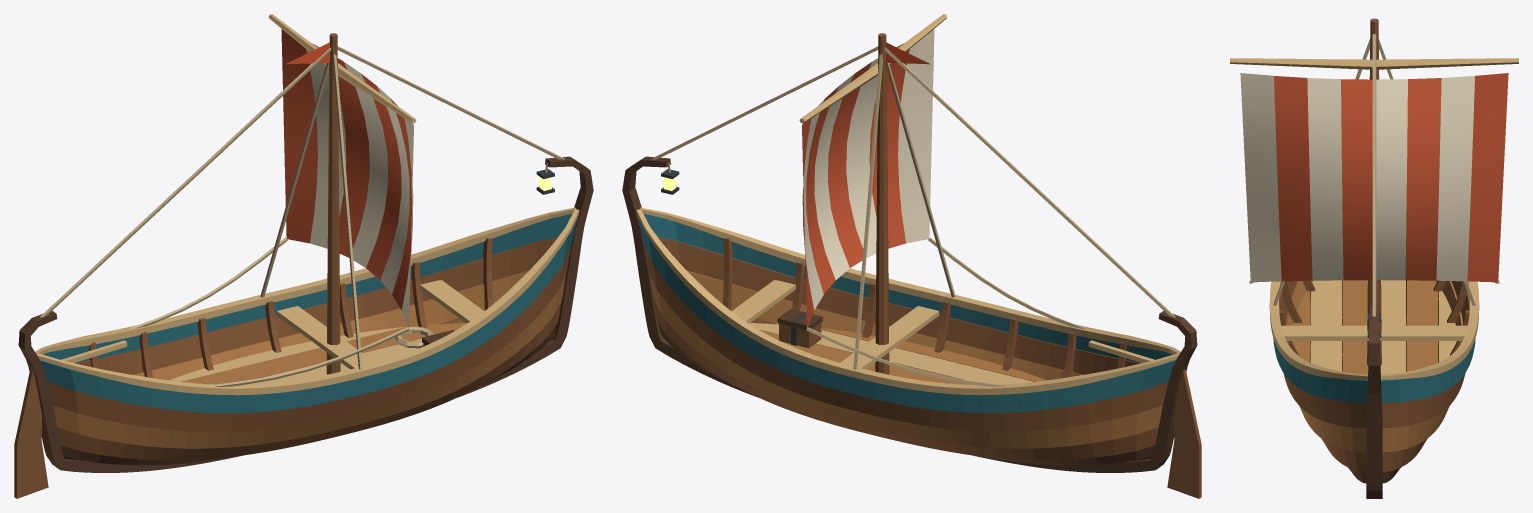
The model's file is boat.glb.
3 views of the same model, side by side, from view 1: azimuth 30°, elevation 25°; view 2: azimuth 150°, elevation 25°; view 3: azimuth 270°, elevation 25° (orthographic).
Parts seen in each view (by area): view 1: keel, rail_s, sail_7, rail_p, sail_5, mast, sail_4, plank_047, plank_057, rudder, sail_6, floor_4 (+47 smaller); view 2: keel, rail_p, sail_0, rail_s, sail_2, mast, sail_3, plank_046, plank_056, rudder, sail_1, plank_036 (+48 smaller); view 3: sail_0, sail_7, sail_1, sail_6, sail_2, sail_5, sail_3, sail_4, keel, thwart_mast, floor_1, floor_4 (+22 smaller).
Part boxes in pixels (x1,y1,x2,y2): keel: [18, 156, 593, 472]; rail_s: [37, 209, 579, 395]; sail_7: [281, 29, 317, 243]; rail_p: [35, 207, 576, 354]; sail_5: [337, 58, 369, 257]; mast: [326, 33, 340, 374]; sail_4: [344, 62, 388, 267]; plank_047: [47, 382, 192, 431]; plank_057: [40, 359, 193, 411]; rudder: [14, 369, 48, 498]; sail_6: [306, 43, 346, 248]; floor_4: [182, 323, 466, 384]; keel: [622, 156, 1197, 472]; rail_p: [636, 209, 1178, 395]; sail_0: [898, 29, 934, 243]; rail_s: [639, 207, 1180, 354]; sail_2: [846, 58, 878, 257]; mast: [875, 33, 889, 374]; sail_3: [827, 62, 871, 267]; plank_046: [1023, 382, 1168, 431]; plank_056: [1022, 359, 1175, 411]; rudder: [1167, 369, 1201, 498]; sail_1: [869, 43, 909, 248]; plank_036: [1026, 405, 1162, 448]; sail_0: [1240, 73, 1281, 282]; sail_7: [1467, 73, 1508, 282]; sail_1: [1274, 76, 1312, 281]; sail_6: [1436, 76, 1474, 281]; sail_2: [1307, 78, 1343, 280]; sail_5: [1405, 78, 1441, 280]; sail_3: [1341, 79, 1372, 280]; sail_4: [1376, 79, 1407, 280]; keel: [1366, 305, 1382, 498]; thwart_mast: [1281, 325, 1467, 340]; floor_1: [1311, 280, 1341, 371]; floor_4: [1407, 280, 1437, 371].
Size of the model in its own units: 6.51 by 4.28 by 2.8.
